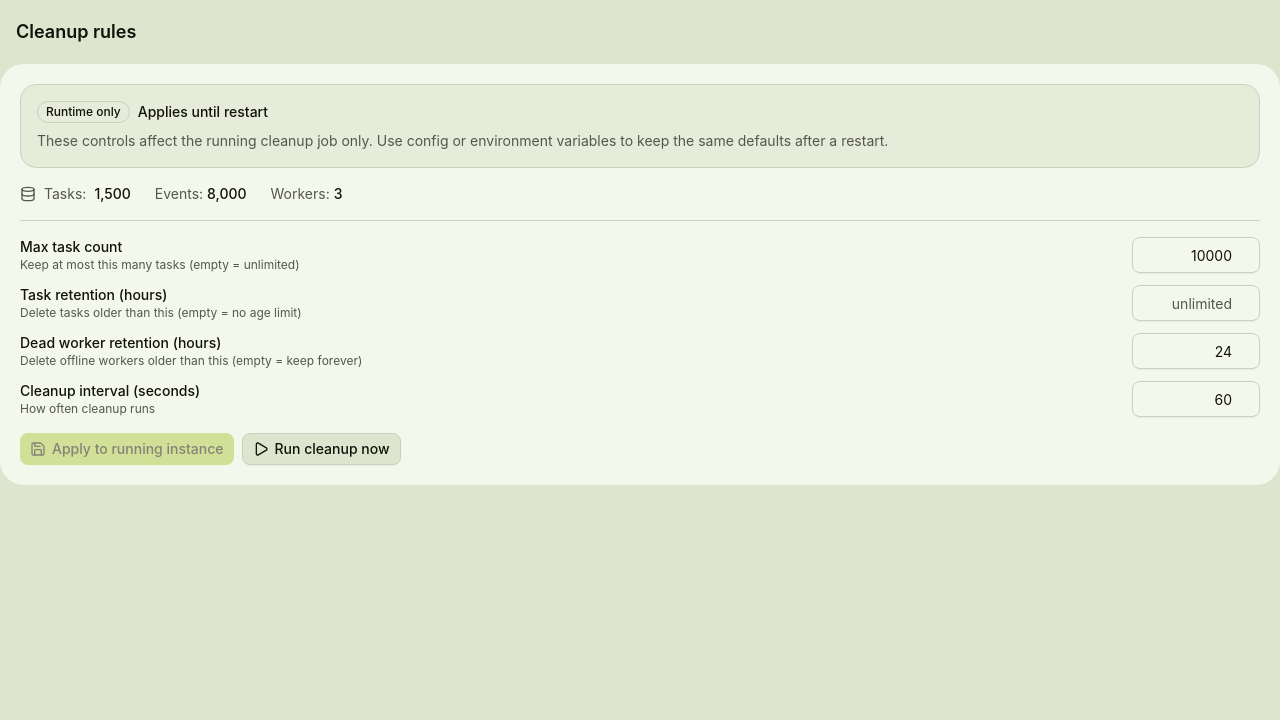
Test case: RetentionPolicyPanel › shows cleanup completed message
Expected: the text "1,500" is shown, [94,184,131,204]
Click the button "Run cleanup now".
click(321, 449)  # box [242,433,401,465]
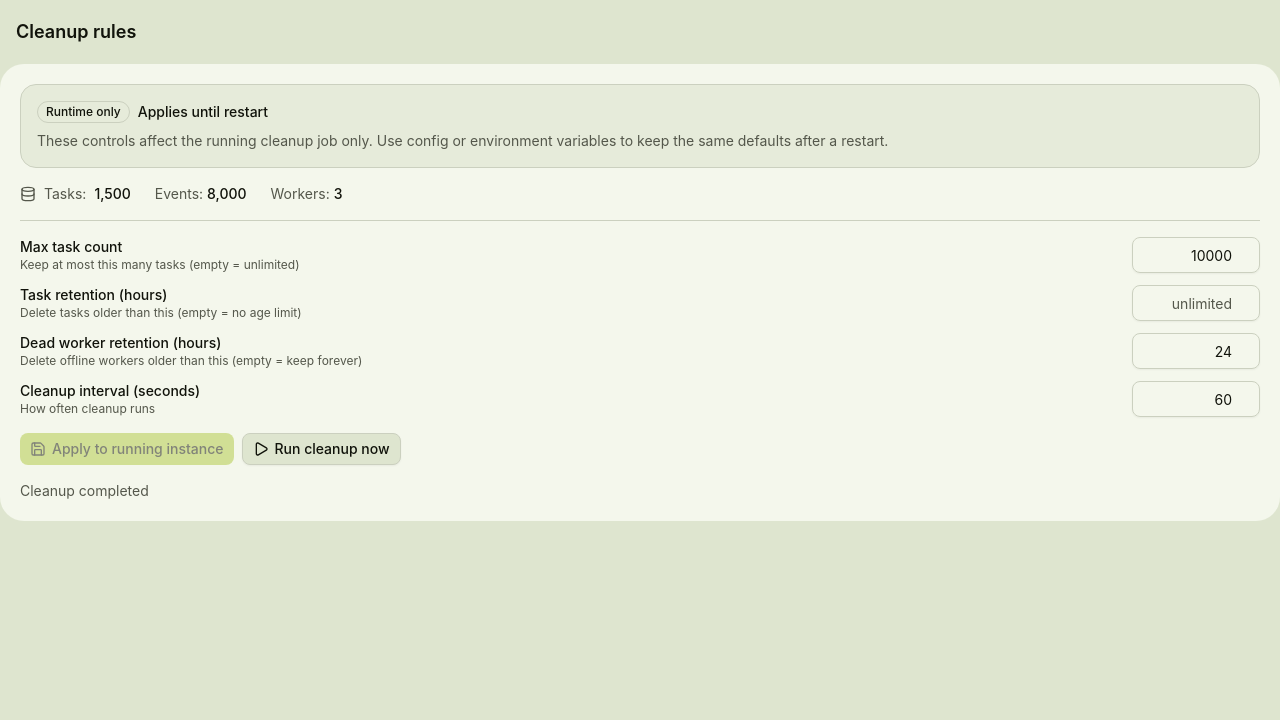
Now the text "Cleanup completed" is shown, box [20,482,149,499]
